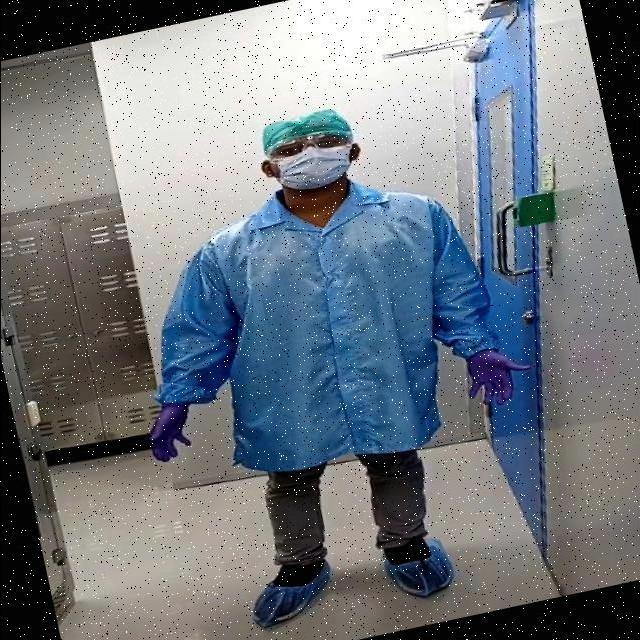apron: (463, 348, 538, 414), (142, 402, 204, 466)
